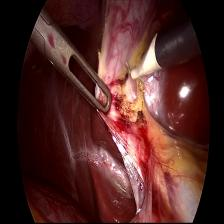Grasper: (35, 9, 112, 115)
Hook: (124, 33, 164, 84)
